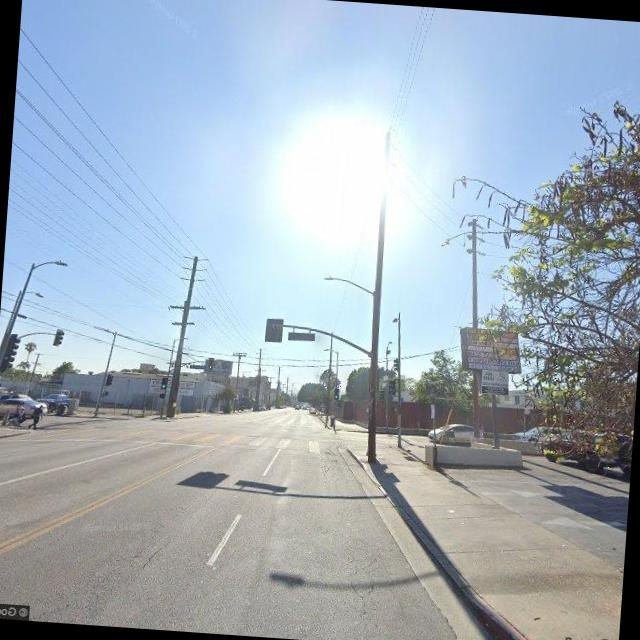crack: (316, 444, 346, 488)
pothole: (134, 536, 174, 580)
